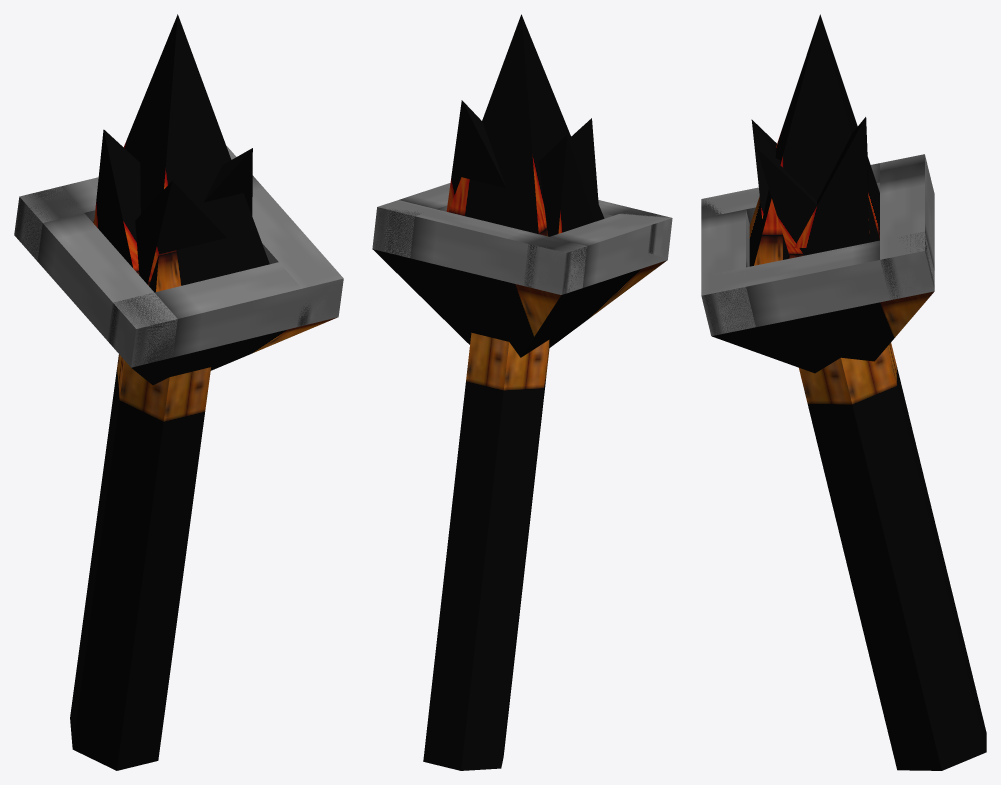
File: torch64.obj
3 views of the same model, side by side, from view 1: azimuth 30°, elevation 25°; view 2: azimuth 150°, elevation 25°; view 3: azimuth 270°, elevation 25° (orthographic). The views are drawn at different scales.
Parts seen in each view (by area): view 1: cylinder, pyramid, mesh; view 2: cylinder, pyramid, mesh; view 3: cylinder, pyramid, mesh.
Part boxes in pixels (bbox=[...]): cylinder: bbox=[70, 354, 210, 770]; pyramid: bbox=[93, 14, 337, 385]; mesh: bbox=[14, 146, 343, 367]; cylinder: bbox=[423, 332, 549, 770]; pyramid: bbox=[372, 14, 667, 357]; mesh: bbox=[372, 183, 672, 294]; cylinder: bbox=[799, 343, 986, 770]; pyramid: bbox=[712, 14, 934, 373]; mesh: bbox=[701, 154, 934, 336].
Size of the model in its own units: 0.1562 by 0.5622 by 0.1947.
Materials: 1 (1 with a texture image).
